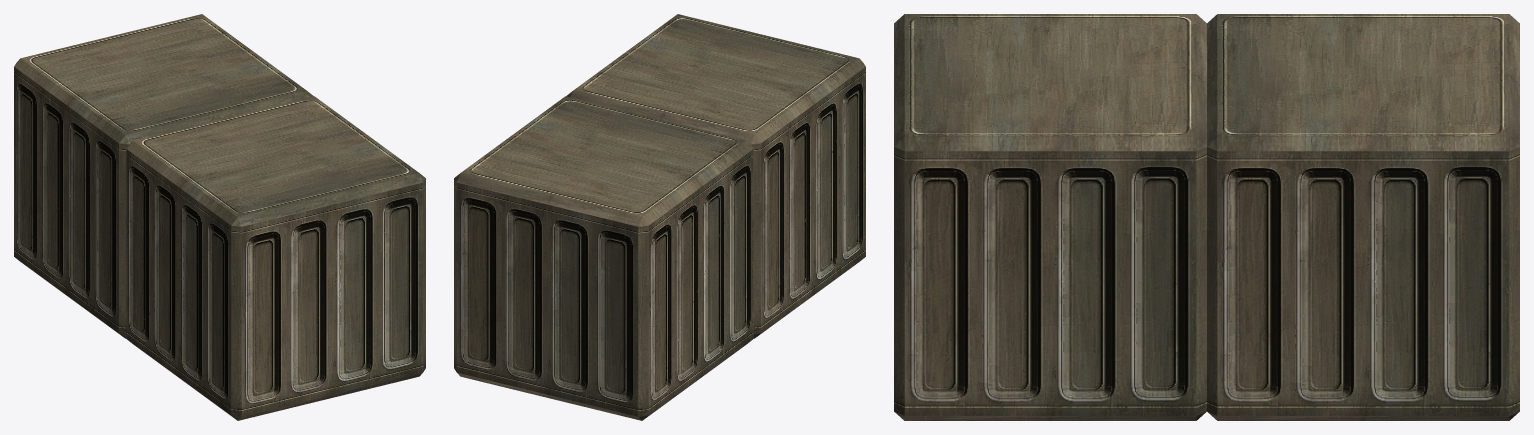
3 renders of one model, left to right at view 1: azimuth 30°, elevation 25°; view 2: azimuth 150°, elevation 25°; view 3: azimuth 270°, elevation 25°, orthographic. The views are drawn at different scales.
Visible parts, largest first — view 1: mesh_0; view 2: mesh_0; view 3: mesh_0.
Part boxes in pixels (left/top/right/bottom): mesh_0: left=14, top=14, right=425, bottom=420; mesh_0: left=454, top=14, right=865, bottom=420; mesh_0: left=894, top=14, right=1519, bottom=420.
Size of the model in its own units: 300 by 300 by 600.
1 material, 1 textured.
